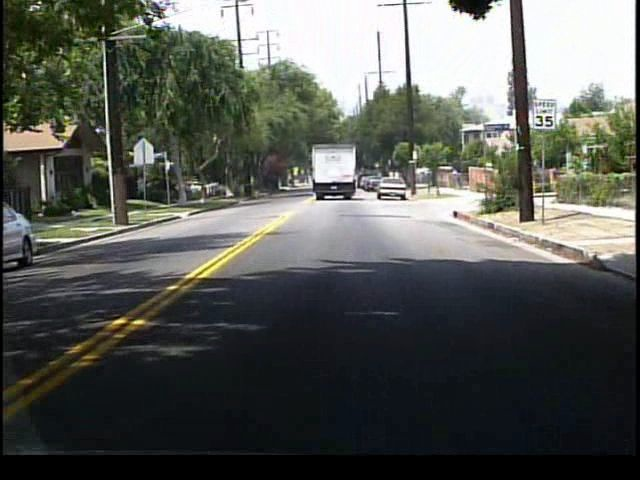person: (449, 166, 460, 190)
